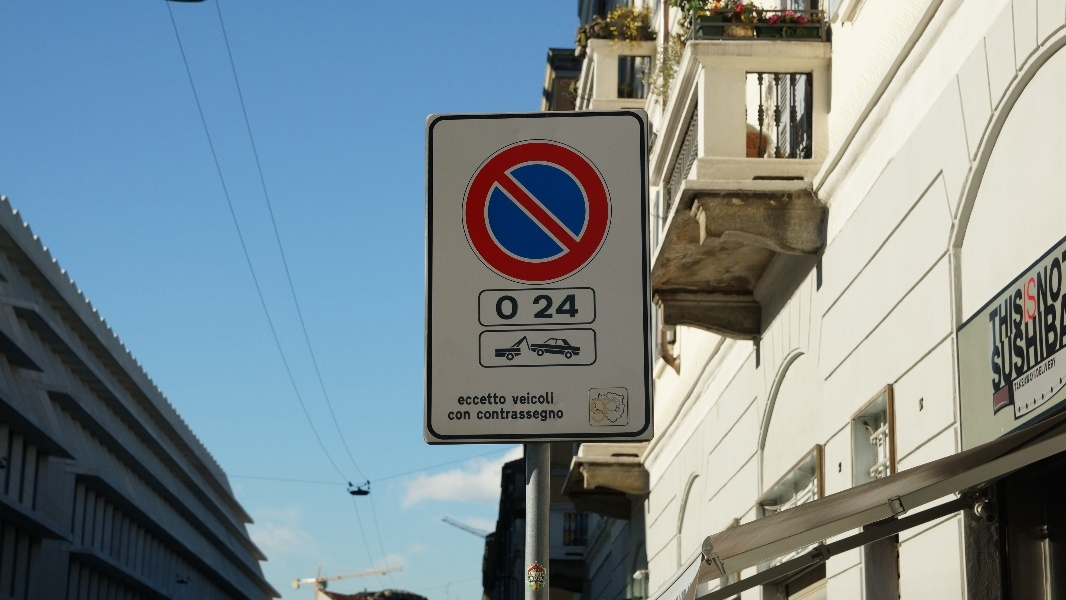text: (993, 299, 1008, 396), (1009, 299, 1024, 396), (1025, 299, 1040, 396), (1041, 299, 1056, 396), (993, 273, 1008, 351), (1009, 273, 1024, 351), (1025, 273, 1038, 351), (1041, 253, 1056, 316), (1041, 355, 1057, 394), (1025, 355, 1040, 394), (1057, 253, 1064, 316), (497, 295, 512, 321), (1014, 355, 1024, 394), (545, 295, 560, 319), (561, 295, 576, 319), (593, 399, 608, 423), (1061, 292, 1066, 351), (1057, 299, 1060, 396), (533, 295, 544, 319), (1036, 253, 1040, 316), (989, 273, 992, 351), (481, 407, 496, 422), (497, 407, 512, 422), (513, 407, 528, 422), (529, 407, 544, 422), (545, 407, 560, 422), (465, 392, 480, 406), (481, 392, 496, 406), (513, 392, 528, 406), (529, 392, 544, 406), (449, 411, 464, 421), (513, 295, 518, 321), (497, 392, 506, 406), (545, 392, 554, 406), (991, 299, 992, 396), (458, 392, 464, 406), (465, 411, 471, 421), (577, 295, 579, 319), (477, 407, 480, 422), (561, 407, 564, 422), (591, 399, 592, 423)
